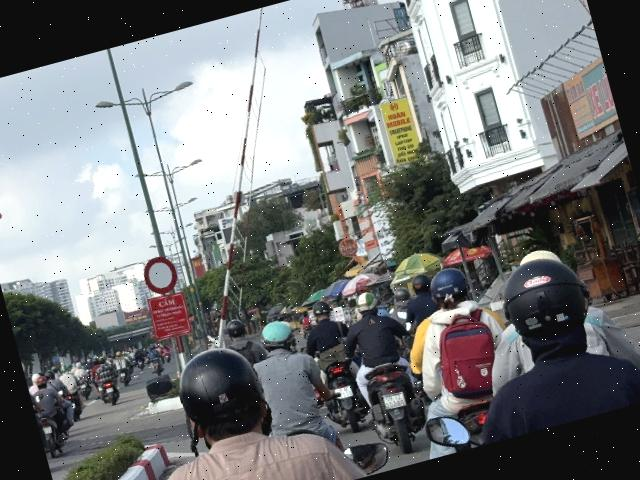duong-cam: (140, 252, 182, 297)
